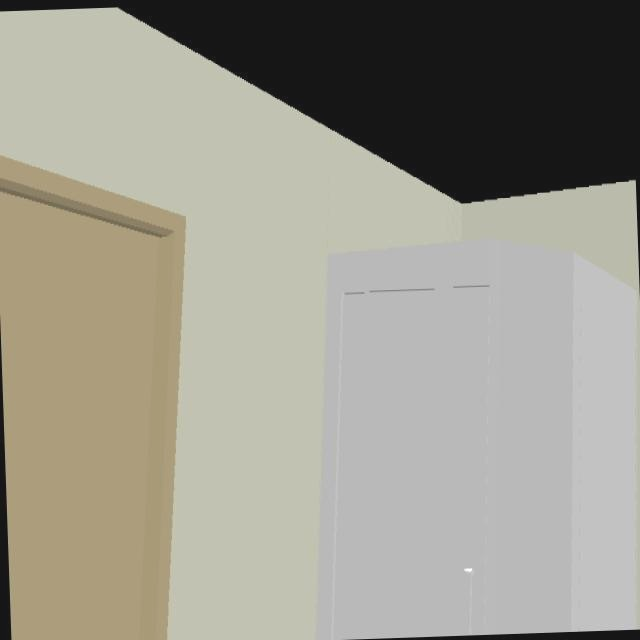shower: (316, 240, 638, 640)
